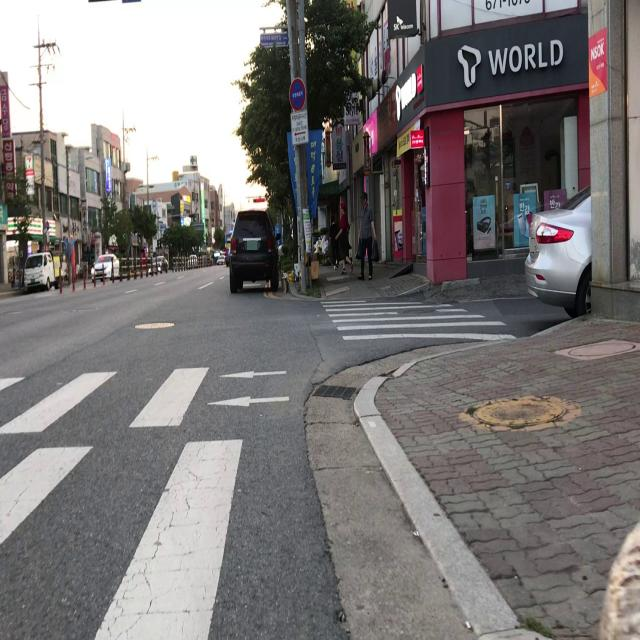횡단보도: (0, 365, 242, 640), (320, 299, 516, 341)
